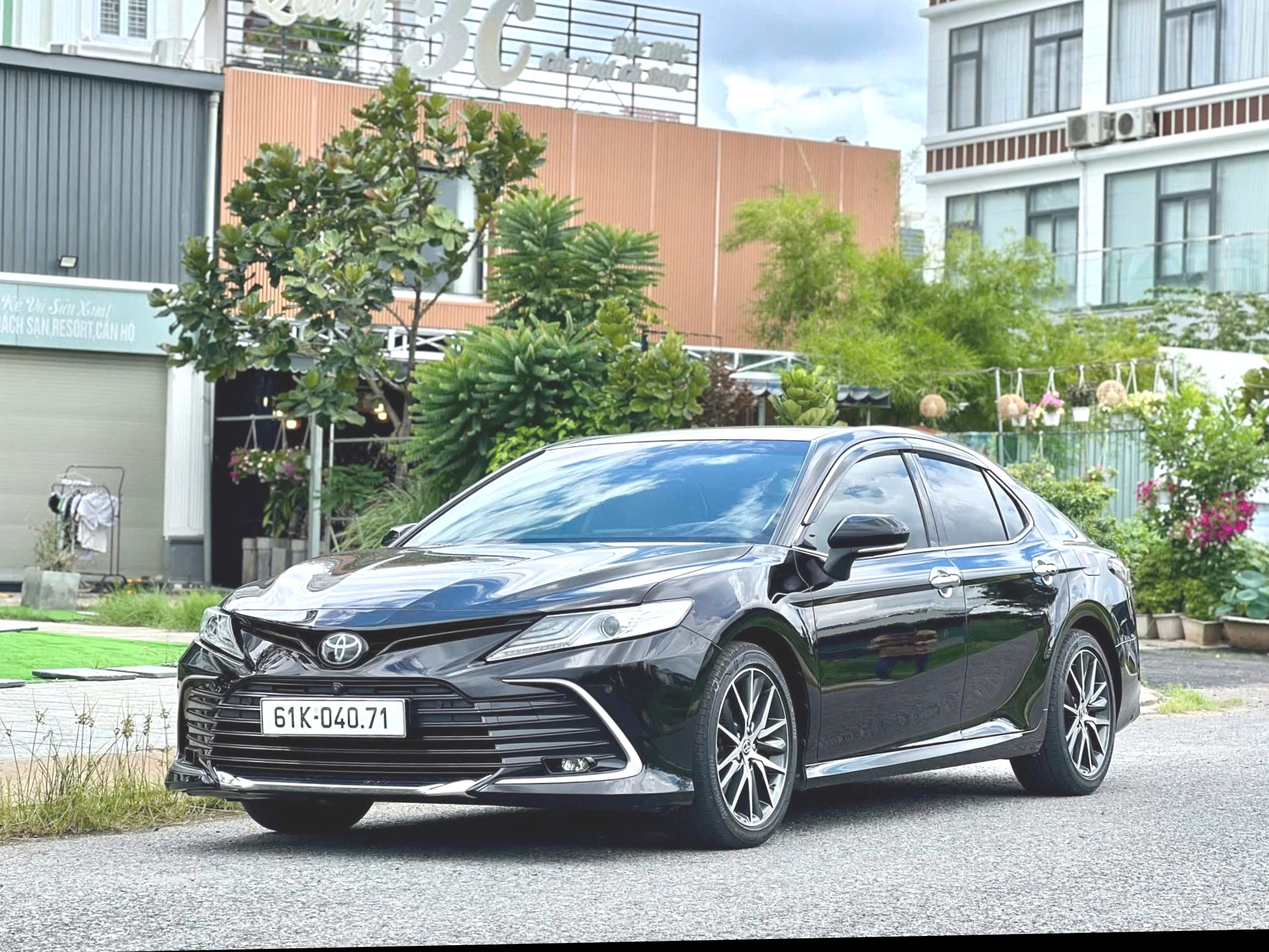Bien-so: (259, 691, 406, 743)
